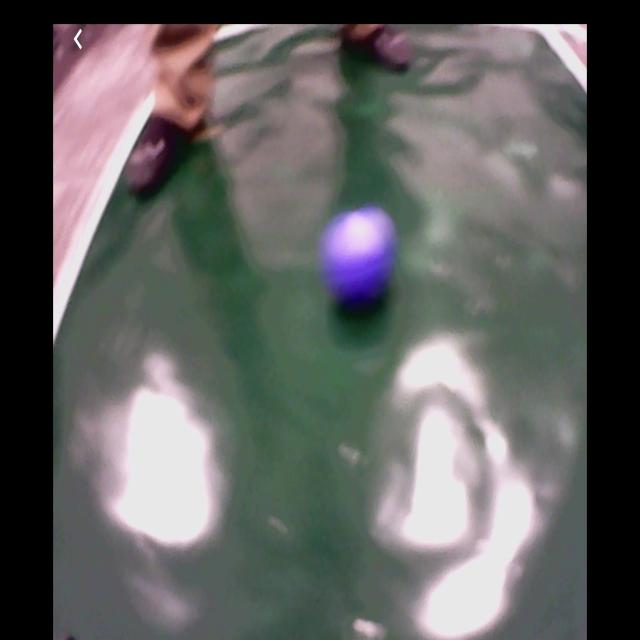ball: (328, 221, 382, 298)
